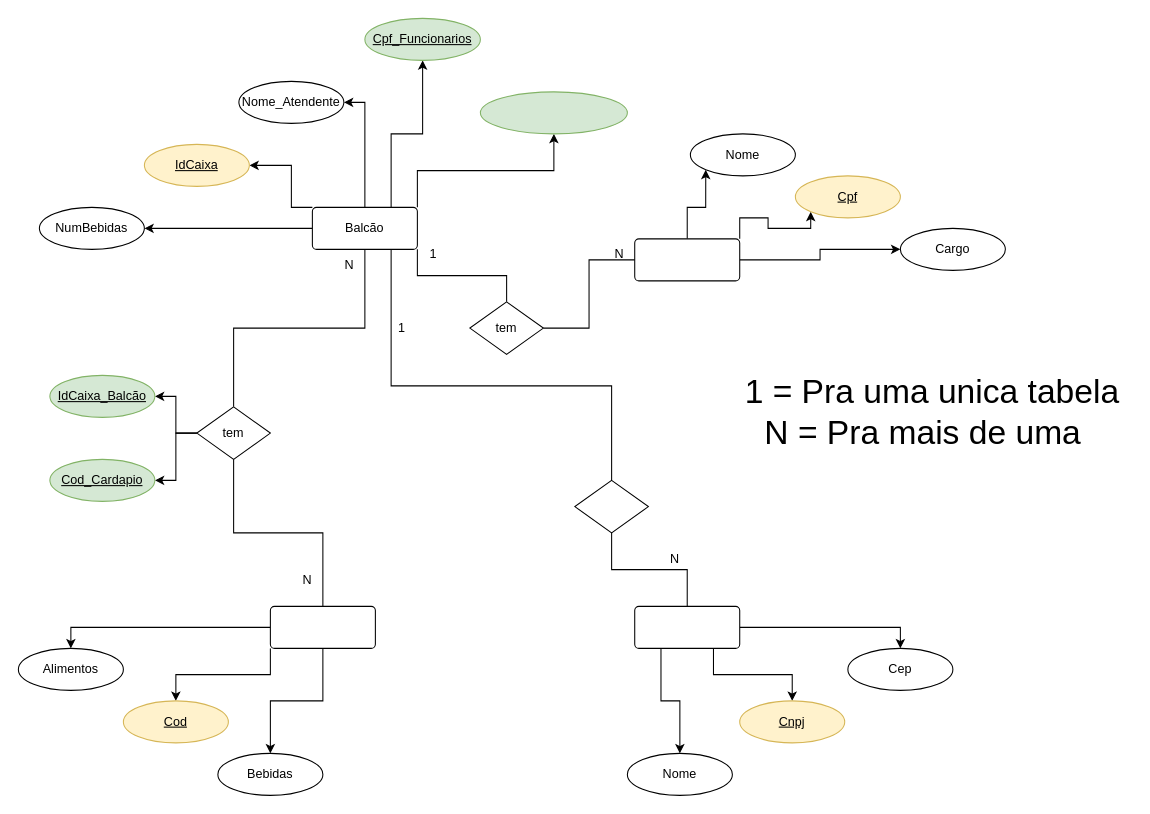
Some shapes in this 1150 by 814 pixel diagram are drawn without their labels. Here are the shapes that lost their labels. From the top down, the centre of each, then its label:
At [553,112]: "Cnpj_Estabelecimento".
At [687,259]: "Funcionarios".
At [611,506]: "Possui".
At [322,626]: "Cardapio".
At [687,626]: "Estabelecimento".
